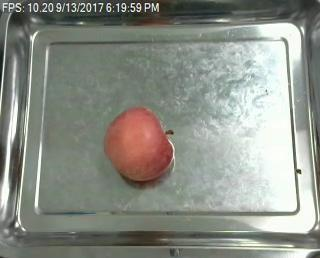apple: (102, 105, 181, 182)
